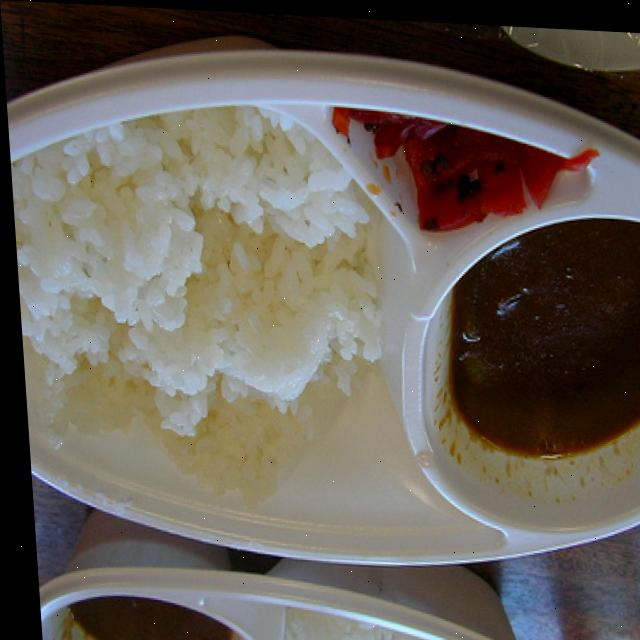米饭主食: (1, 11, 435, 576)
